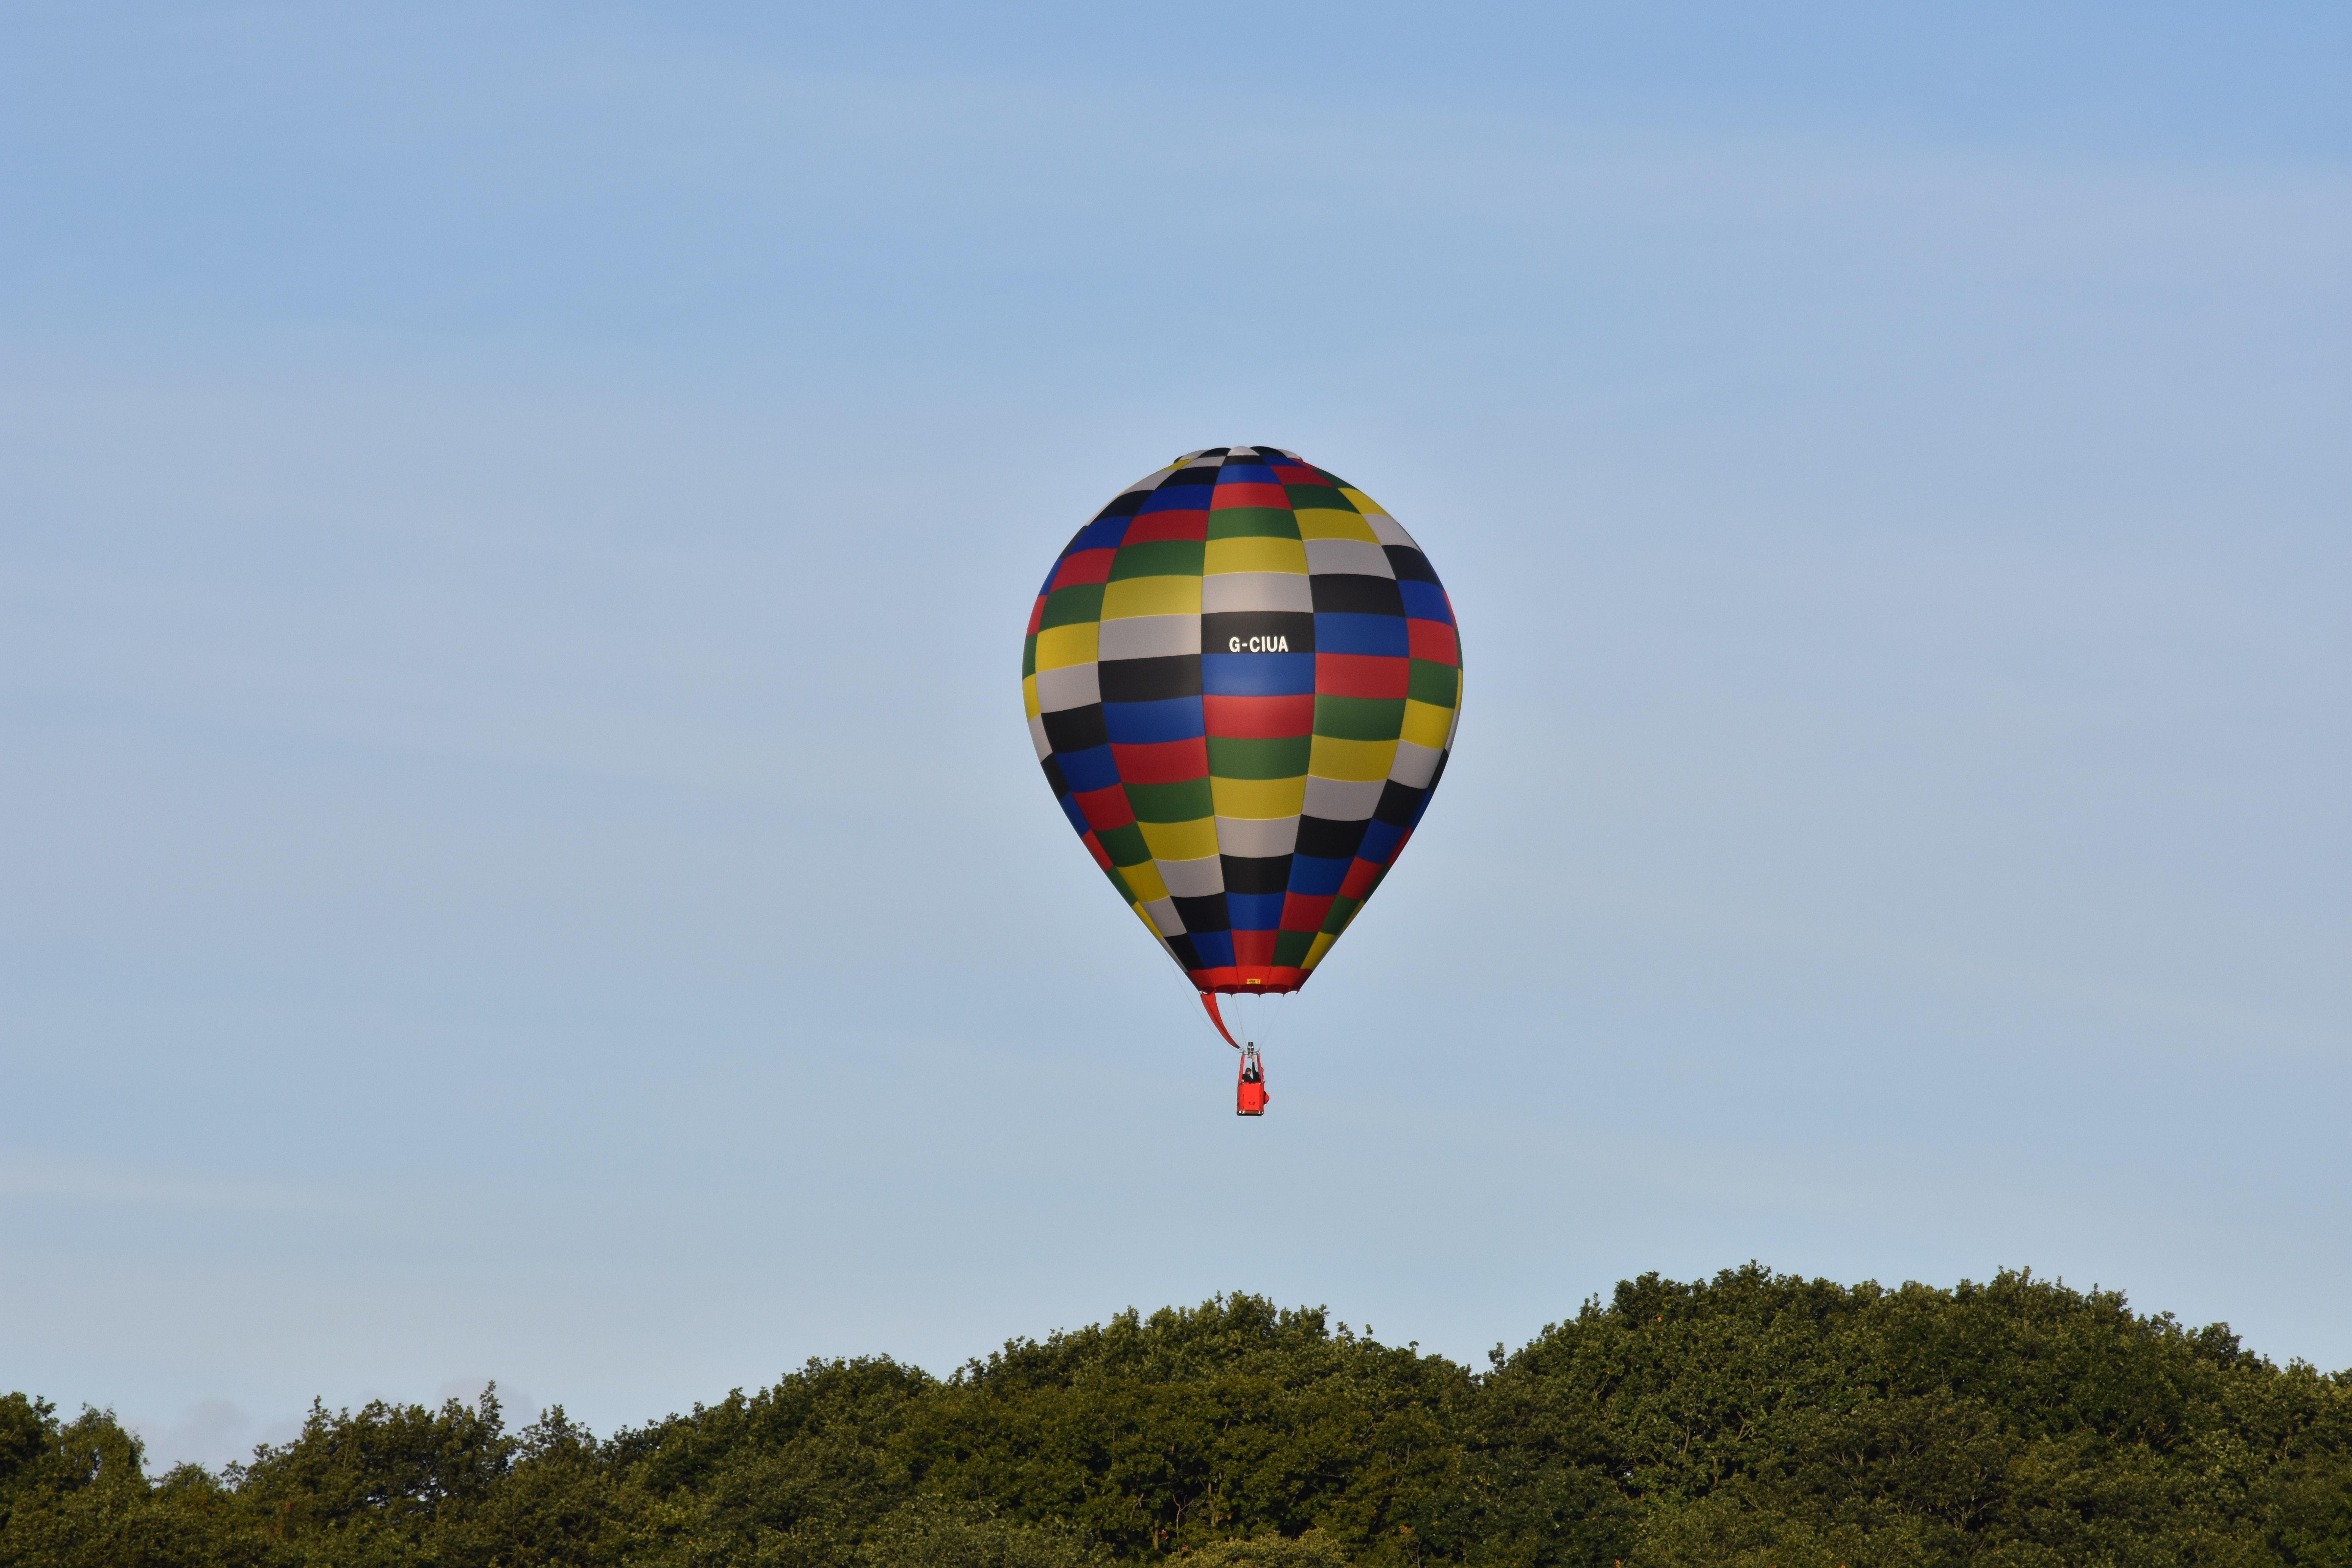hot air ballon: (1017, 443, 1465, 1118)
